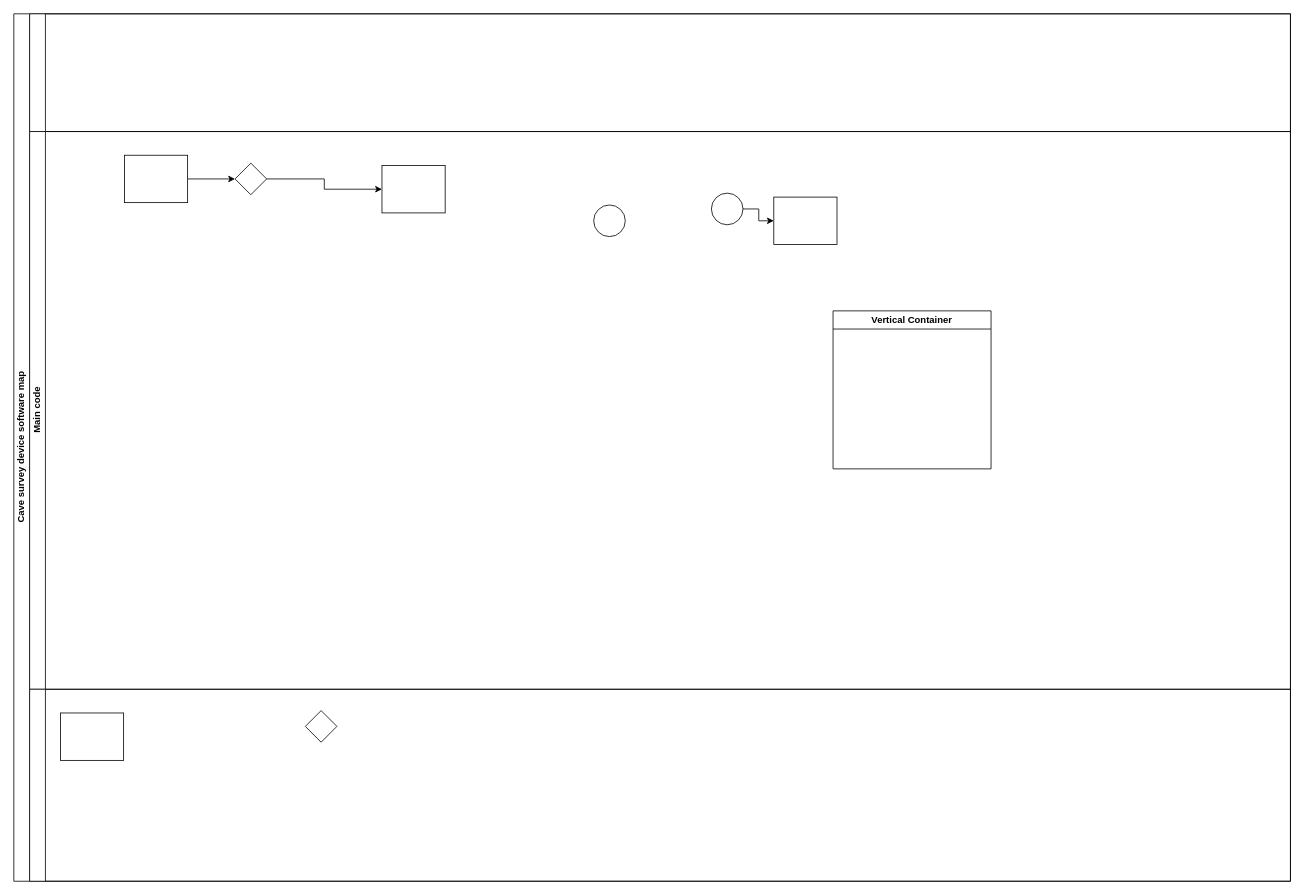
Some shapes in this 1304 by 895 pixel diagram are drawn without their labels. Here are the shapes that lost their labels. From the top down, the box of each, then its label:
(29, 13, 1290, 132): Config Settings
(29, 688, 1290, 881): Calibration
